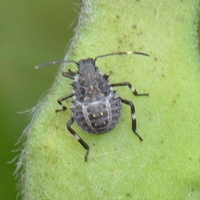insect: (35, 51, 148, 160)
